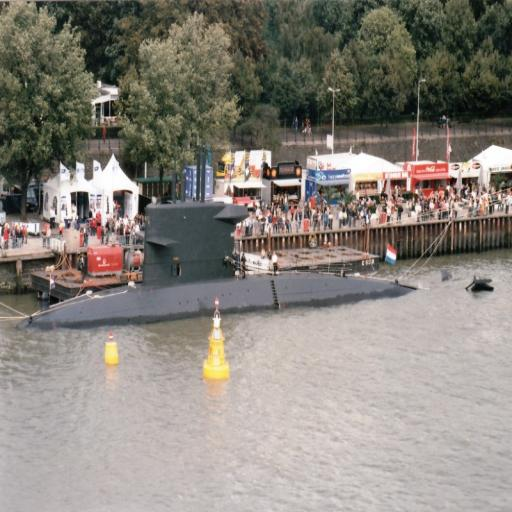submarine: (12, 202, 426, 332)
